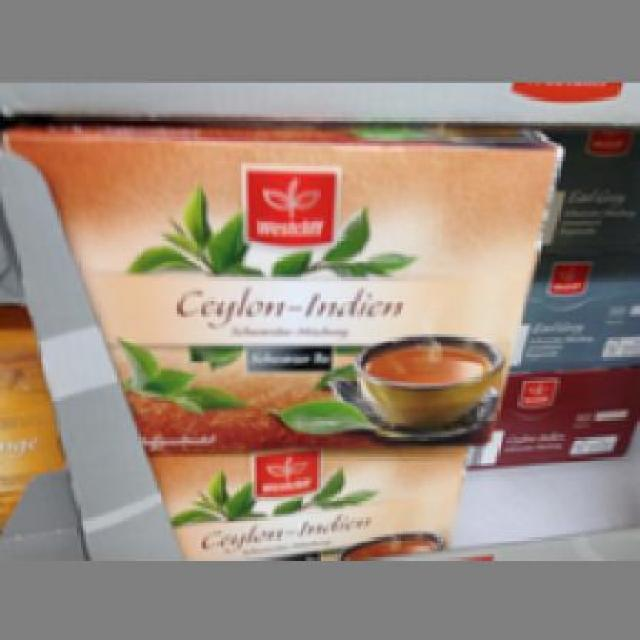Tea: (6, 120, 560, 449)
